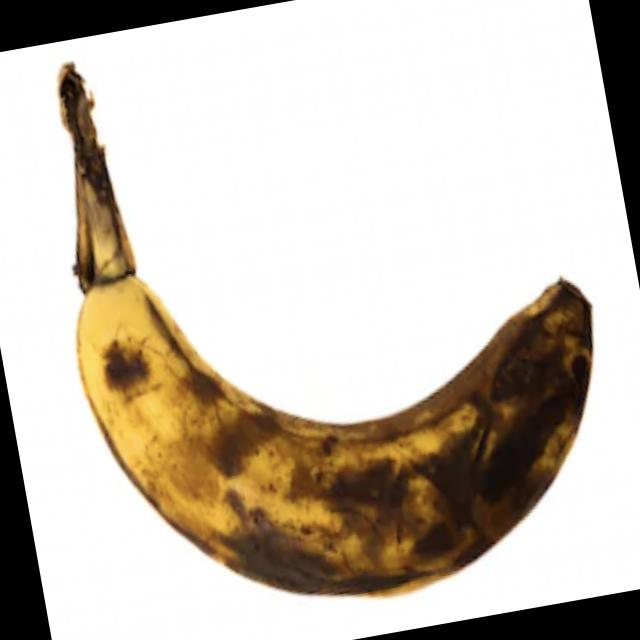rotten-banana: (57, 147, 640, 639)
